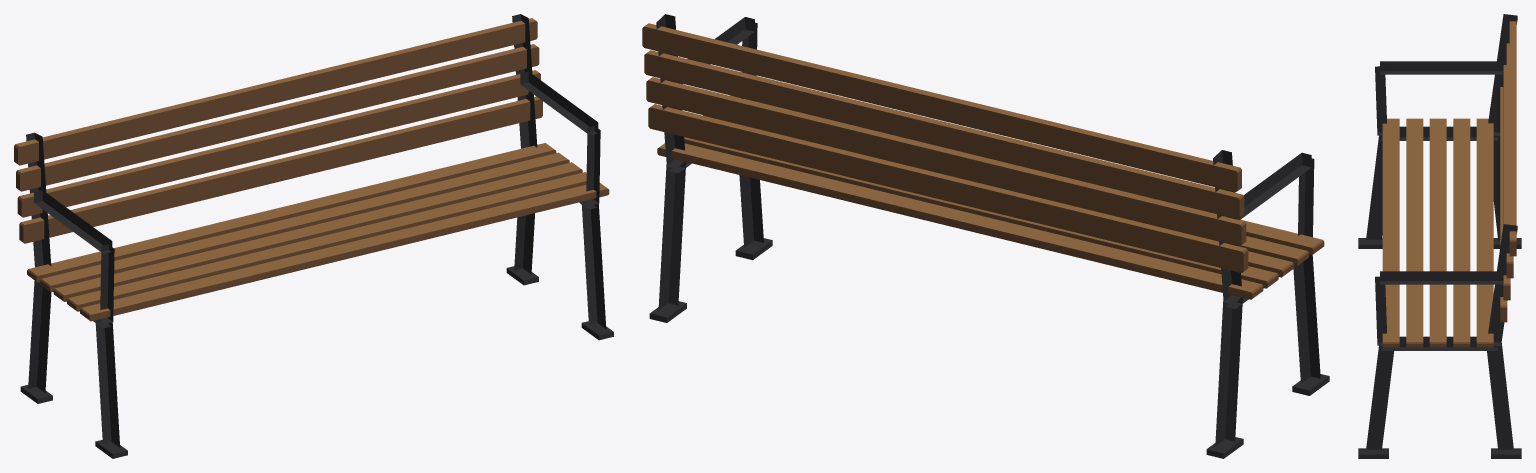
File: FN_Bench_Park.glb
The picture shows the model from 3 angles, left to right: view 1: azimuth 30°, elevation 25°; view 2: azimuth 150°, elevation 25°; view 3: azimuth 270°, elevation 25°; orthographic projection. The views are drawn at different scales.
Parts seen in each view (by area): view 1: FN_Bench_Park; view 2: FN_Bench_Park; view 3: FN_Bench_Park.
Boxes of the visible parts, <box> form: FN_Bench_Park: <box>14,14,613,458</box>; FN_Bench_Park: <box>642,14,1329,458</box>; FN_Bench_Park: <box>1358,14,1521,458</box>.
Bounding box in the file's own units: 1.8 × 0.859 × 0.554.
1 material, 1 textured.
